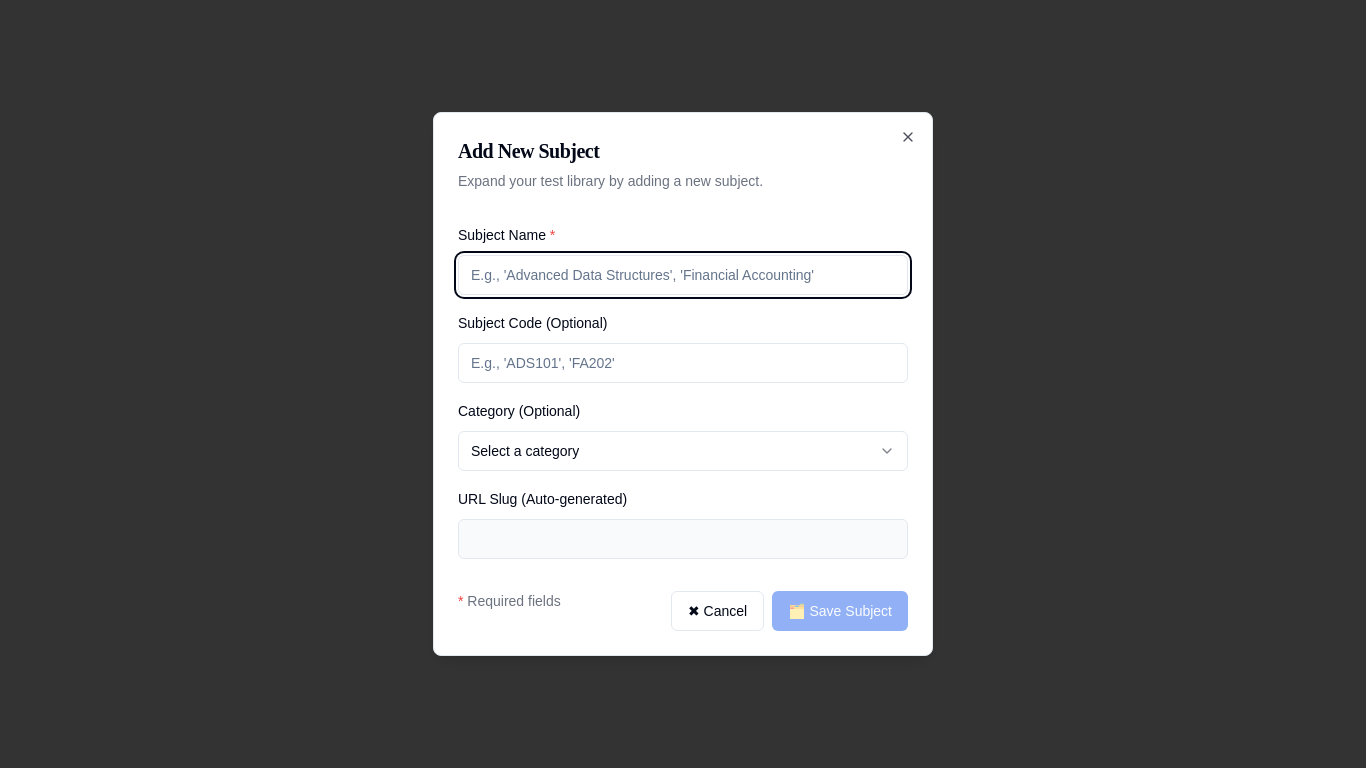
AddSubjectModal › shows warning when subject name already exists
The image size is (1366, 768).
// Enter a name that already exists
Type "Physics" into the field with placeholder "E.g., 'Advanced Data Structures', 'Financial Accounting'" at (683, 275), box [458,255,908,295]
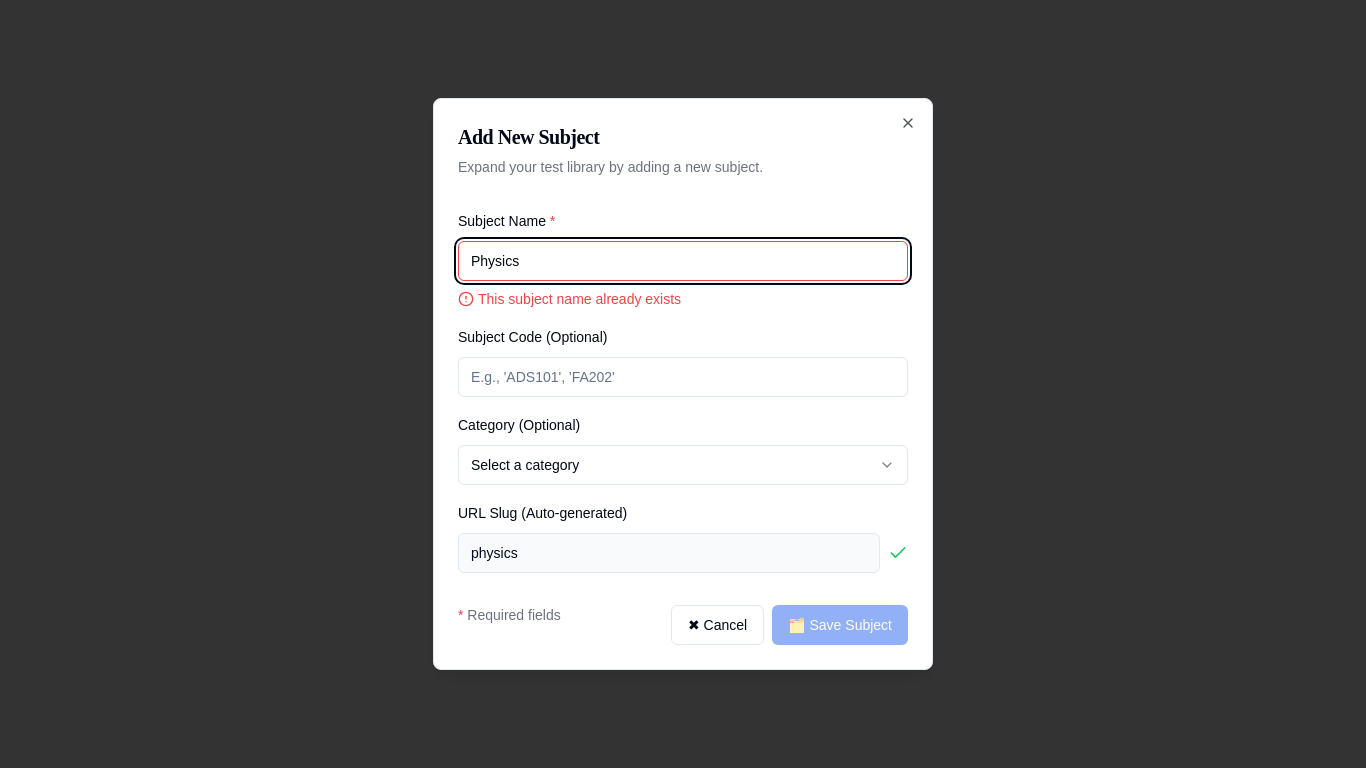
Check: the button "🗂️ Save Subject" is disabled, box [772,605,908,645]
Check: the text "This subject name already exists" is shown, box [458,291,681,307]
